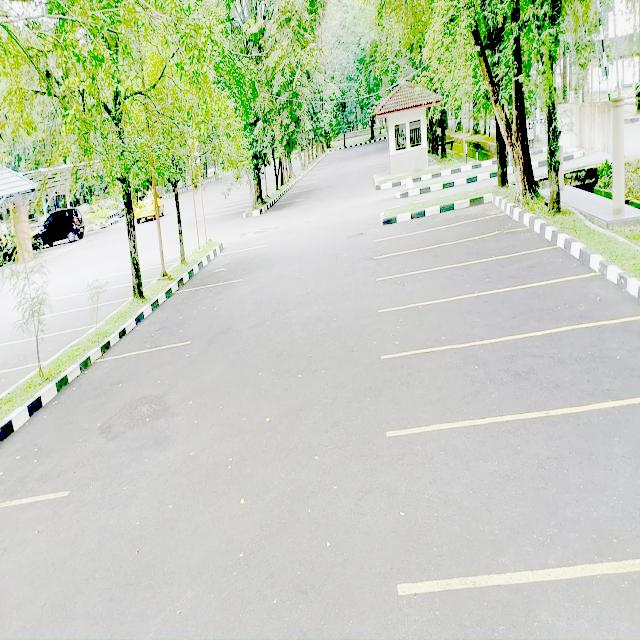empty: (394, 402, 640, 578), (388, 325, 640, 427), (31, 352, 177, 504), (390, 277, 636, 347), (469, 272, 622, 333), (400, 252, 570, 297), (384, 238, 540, 274), (148, 287, 233, 351), (384, 220, 511, 250), (192, 252, 260, 288), (0, 336, 71, 370), (47, 304, 120, 329), (42, 309, 105, 334), (74, 288, 134, 306), (0, 368, 31, 402)
